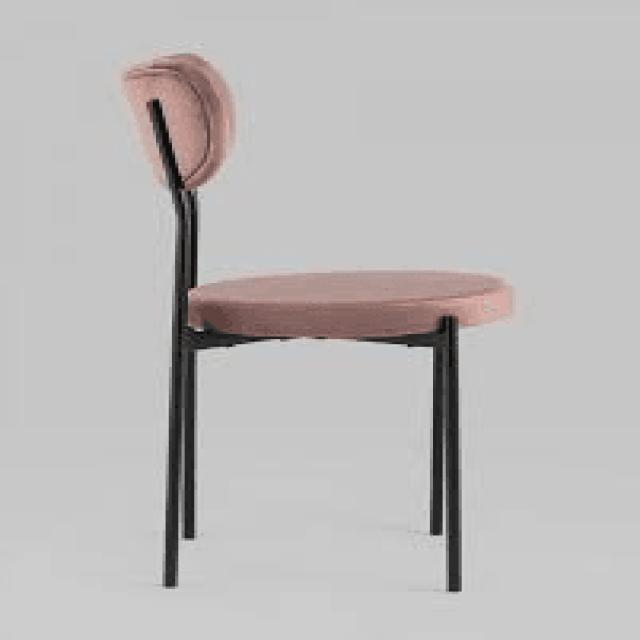chair: (115, 47, 528, 599), (116, 45, 514, 338)
